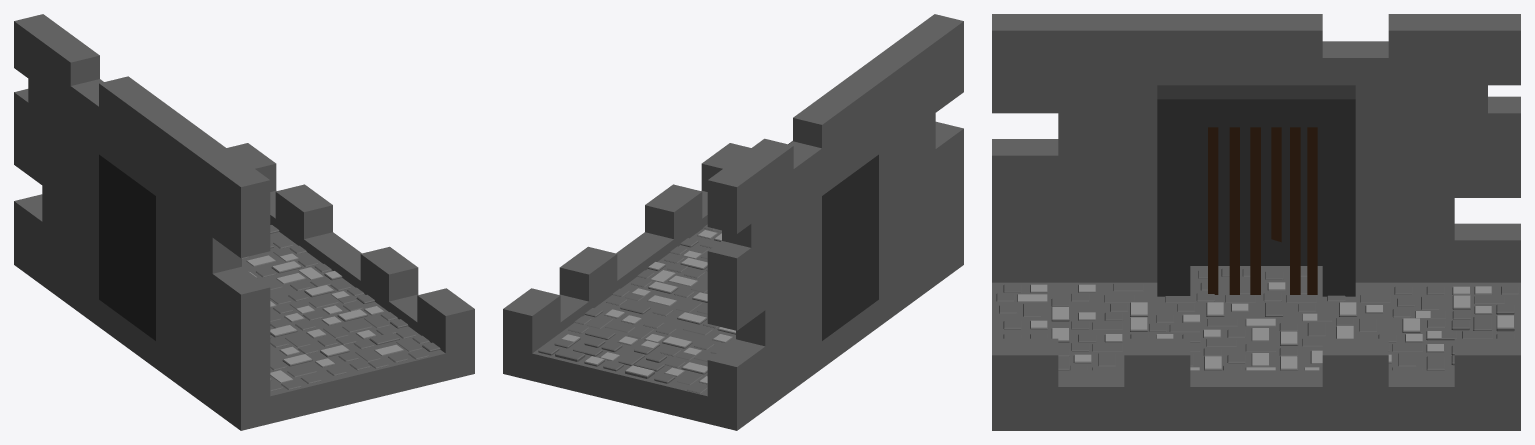
The model's file is BridgePlatform2.fbx.
3 renders of one model, left to right at view 1: azimuth 30°, elevation 25°; view 2: azimuth 150°, elevation 25°; view 3: azimuth 270°, elevation 25°, orthographic. The views are drawn at different scales.
Parts seen in each view (by area): view 1: Cube.008; view 2: Cube.008; view 3: Cube.008.
Boxes of the visible parts, x1=… form: Cube.008: x1=14, y1=14, x2=474, y2=430; Cube.008: x1=503, y1=14, x2=963, y2=430; Cube.008: x1=992, y1=14, x2=1520, y2=430.
Size of the model in its own units: 1039 by 1034 by 1746.
